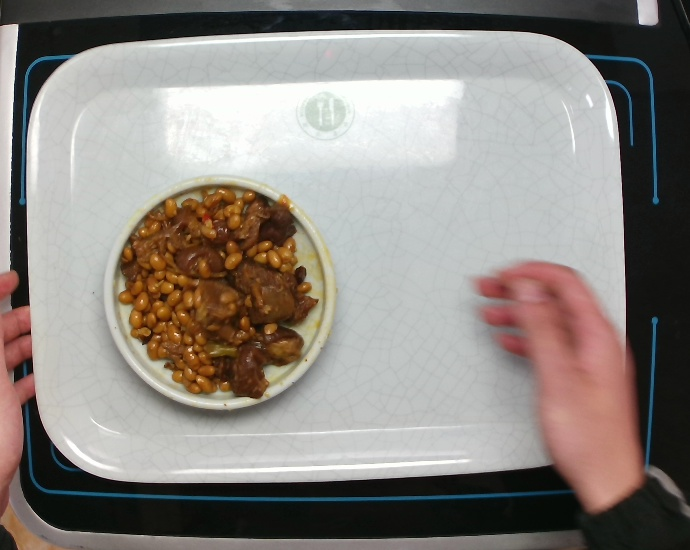JYsf-Xiao_Yuan_Pan: (100, 172, 339, 412)
